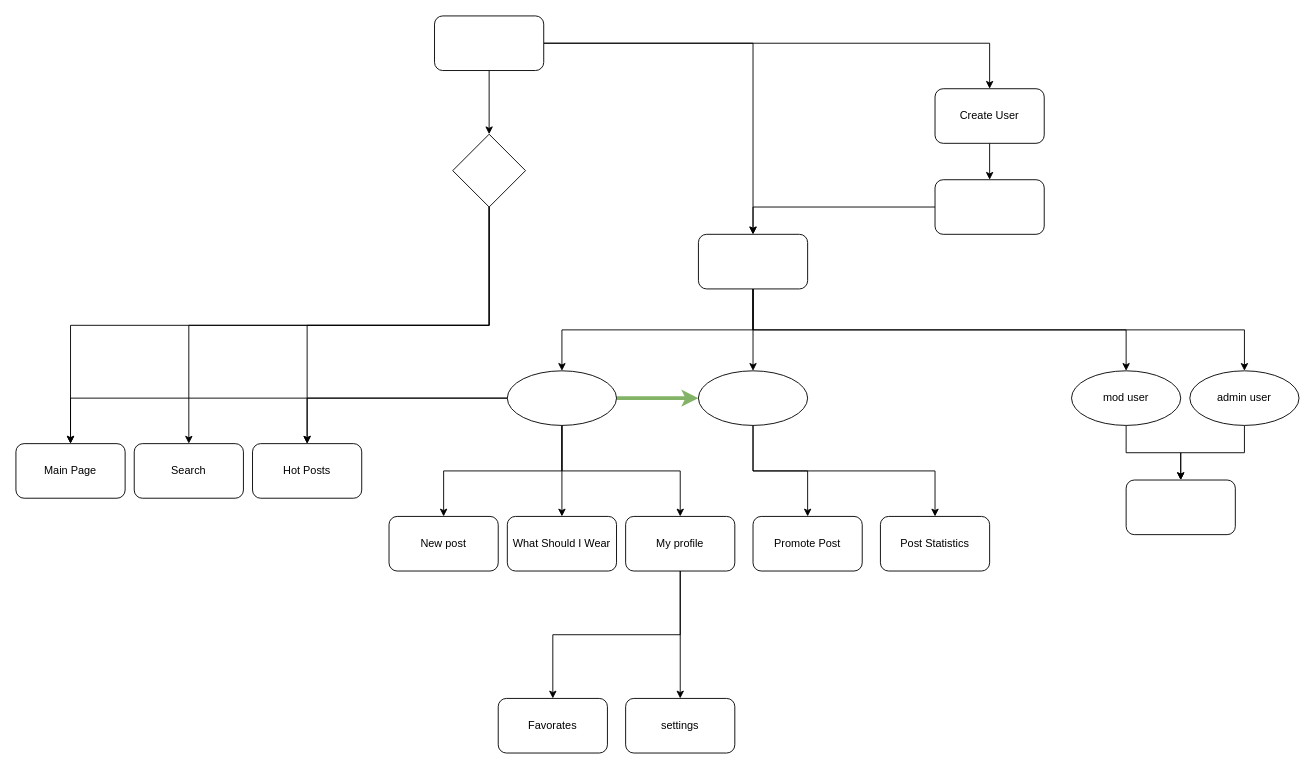
Image size: 1315x769. Some labels were removed from this diagram. The centre of each missing label's shape, as x and y in pixels:
"buissness user" goes at [753,397].
"home page" goes at [489,43].
"Login" goes at [753,261].
"norm user" goes at [561,397].
"not logged in" goes at [489,170].
"Overview page" goes at [1180,507].
"Sign Up" goes at [989,206].
